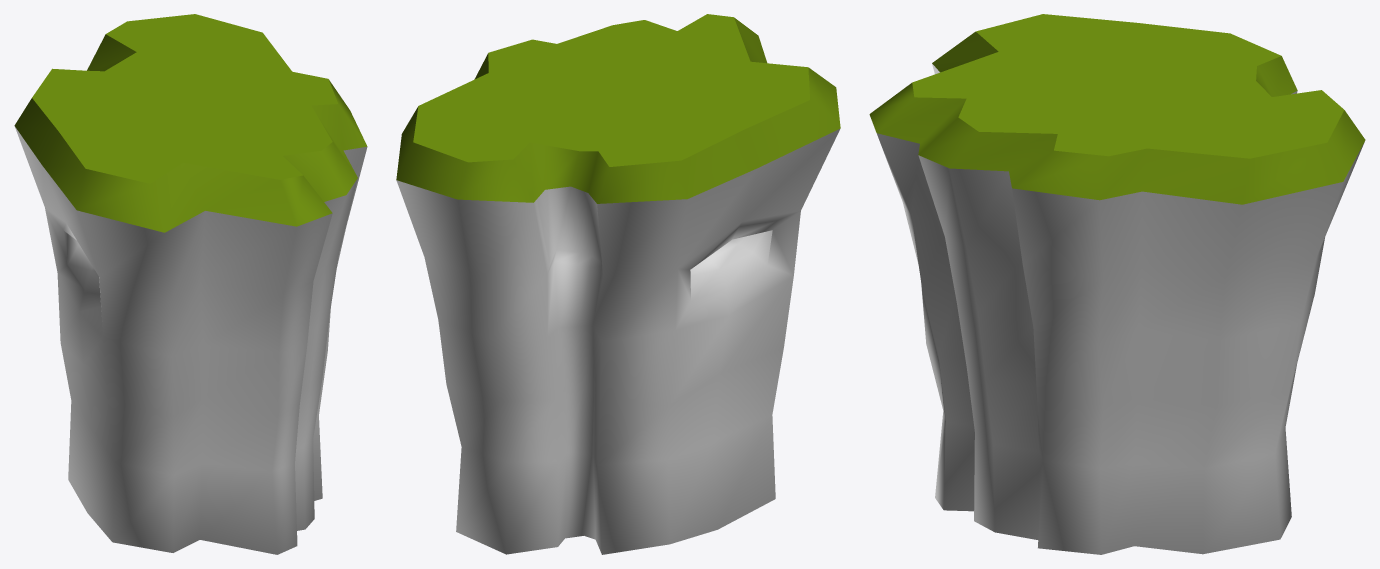
The model's file is WaterFallIsland.fbx.
The picture shows the model from 3 angles, left to right: view 1: azimuth 30°, elevation 25°; view 2: azimuth 150°, elevation 25°; view 3: azimuth 270°, elevation 25°; orthographic projection. The views are drawn at different scales.
Visible parts, largest first — view 1: Plane.004; view 2: Plane.004; view 3: Plane.004.
Part boxes in pixels (<box>): Plane.004: <box>14,14,367,554</box>; Plane.004: <box>396,14,840,554</box>; Plane.004: <box>869,14,1365,554</box>.
Bounding box in the file's own units: 1959 × 2336 × 2524.
